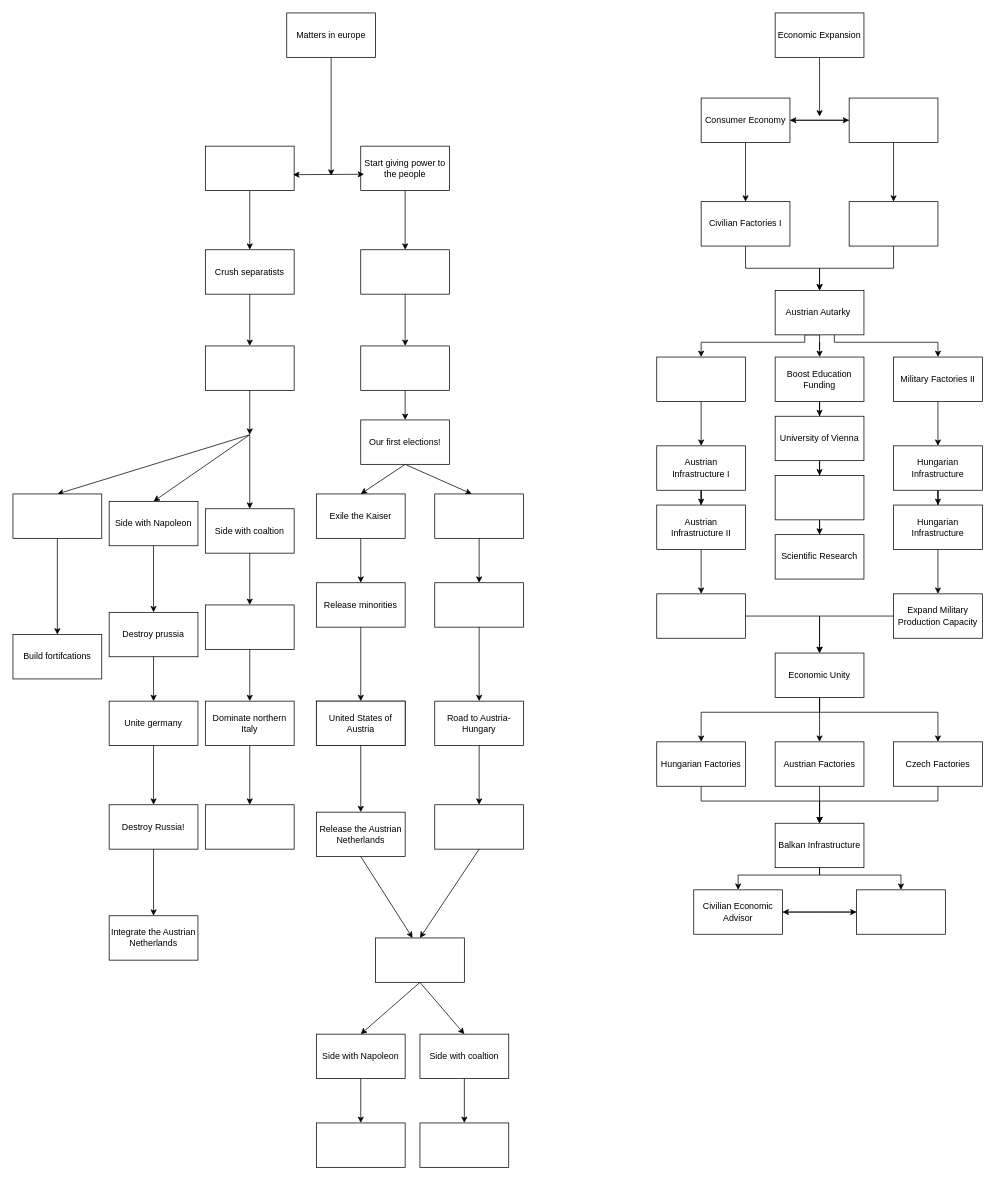
The diagram is 995 pixels wide and 1180 high, and some of its shapes have lost their labels. Here are the shapes that lost their labels. From the top down, the box of each, then its label:
(848, 97, 938, 142): Military Economy
(205, 145, 294, 191): Consolidate power of the Kaiser
(848, 201, 938, 246): Military Factories I
(360, 249, 450, 294): Give minorities rights
(205, 345, 294, 390): Gott ehalte Franz Den Kaiser
(360, 345, 450, 390): Build democratic support
(656, 356, 746, 401): Civilian Factories II
(12, 493, 102, 538): Stay neutral
(434, 493, 524, 538): Constitutional monarchy
(774, 475, 864, 520): Free Education
(434, 582, 524, 627): Figurehead Kaiser
(656, 593, 746, 638): Consumer Goods
(205, 604, 294, 649): March through Italy
(205, 804, 294, 849): A southern Italian protectorate
(434, 804, 524, 849): Form Austria-Hungary
(856, 889, 945, 934): Military Economic Advisor
(375, 937, 464, 982): Realize the conflict in europe
(316, 1122, 405, 1167): Democracies unite!
(419, 1122, 509, 1167): Napoleon is a tyrant!
